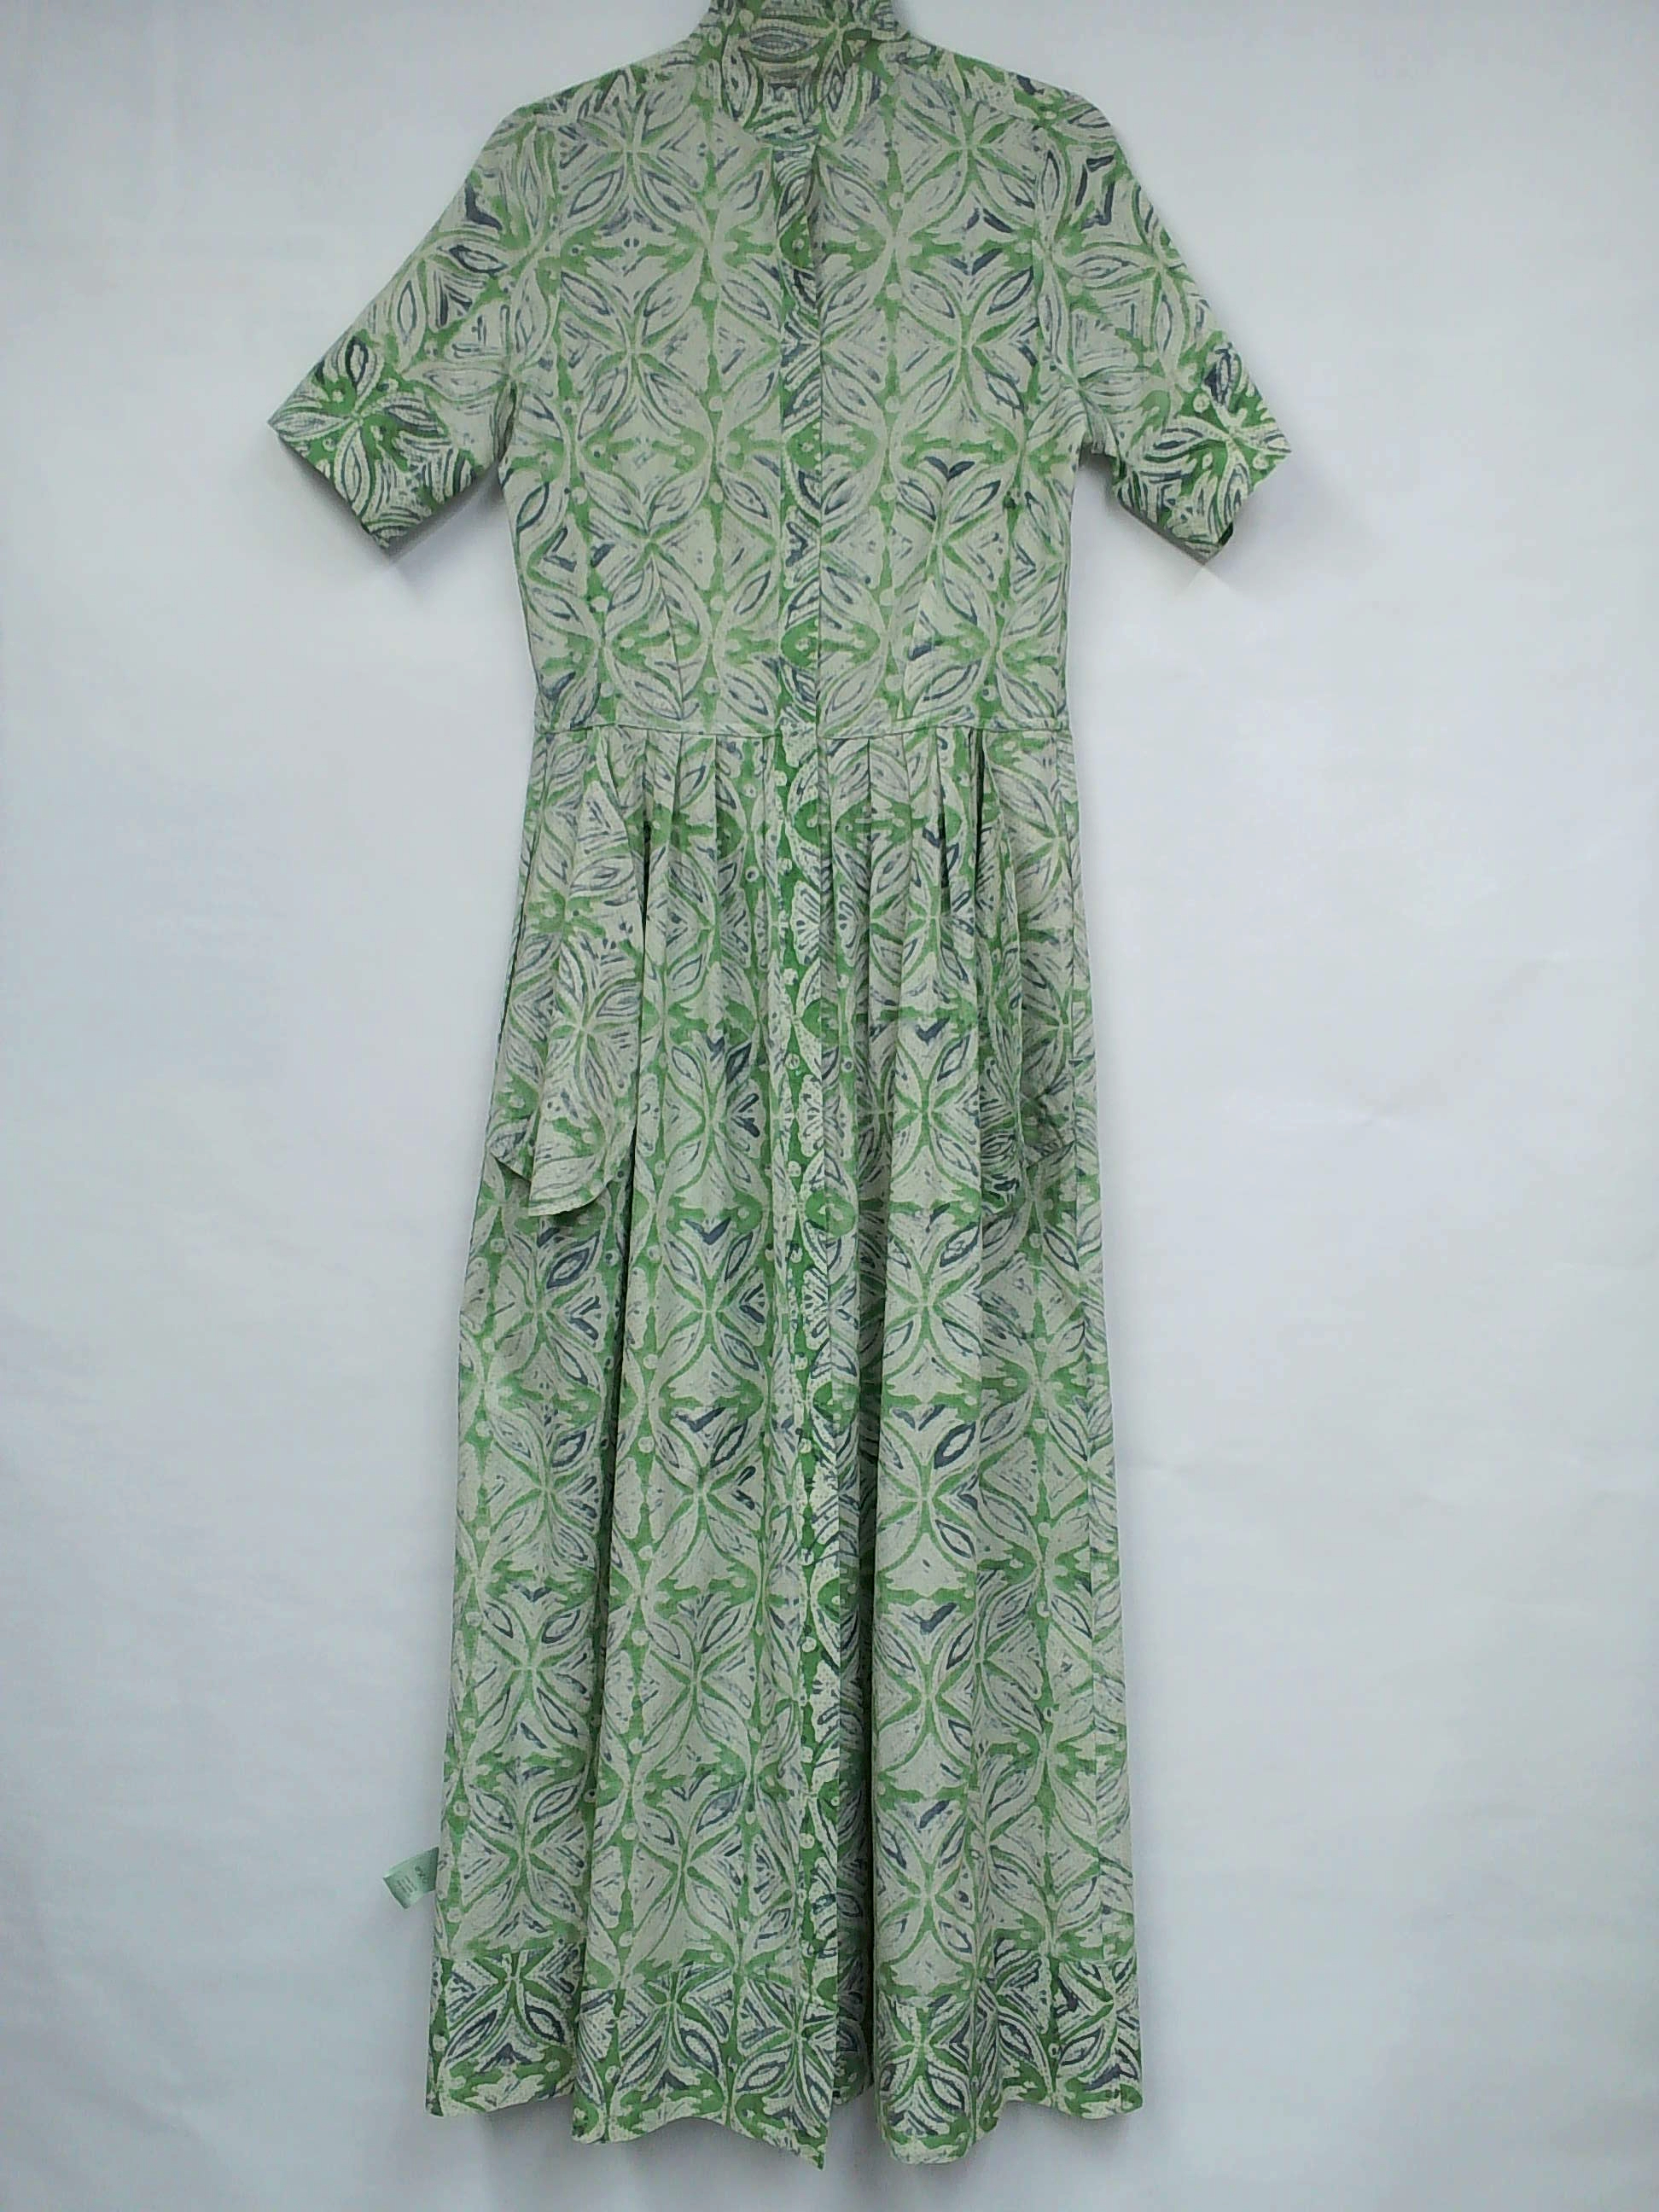structural: (727, 1032, 885, 1599)
